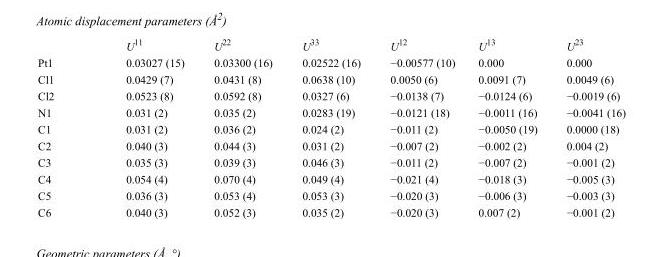table: (37, 36, 624, 218)
table column: (89, 36, 198, 218), (374, 36, 466, 218), (198, 36, 286, 218), (286, 36, 374, 218), (466, 36, 551, 218), (551, 36, 624, 218), (37, 36, 89, 218)
table column header: (37, 36, 624, 53)
table row: (37, 36, 624, 53), (37, 53, 624, 70), (37, 70, 624, 87), (37, 103, 624, 120), (37, 120, 624, 137), (37, 153, 624, 170), (37, 186, 624, 203), (37, 87, 624, 103), (37, 137, 624, 153), (37, 170, 624, 186), (37, 203, 624, 218)
